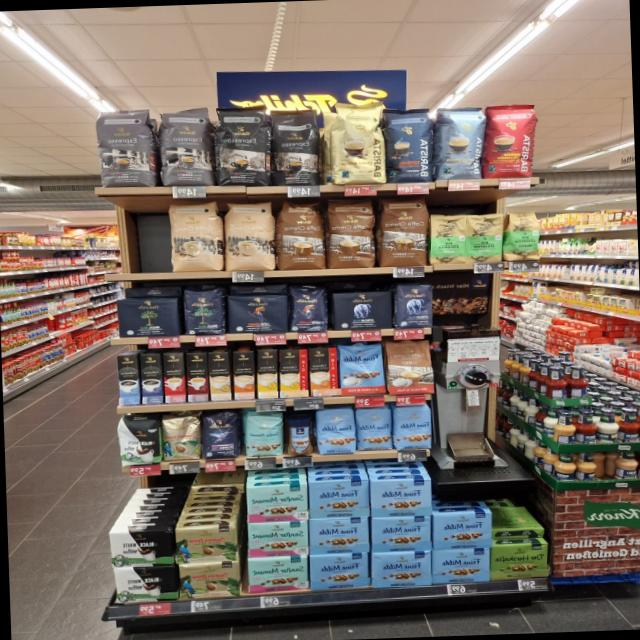AB Bohne: (393, 282, 435, 330)
AB Gemahlen: (330, 290, 392, 330)
Athiopien Bohne: (502, 208, 542, 260)
Athiopien Gemahlen: (428, 212, 468, 264), (464, 212, 504, 262)
BM Bohne: (182, 286, 224, 336)
BM Gemahlen: (116, 296, 180, 338)
BW Bohne: (115, 416, 161, 468)
BW Gemahlen: (107, 526, 175, 568), (112, 564, 179, 603)
Barista CB: (329, 100, 386, 185)
Barista CC: (432, 104, 486, 180)
Barista Espresso: (382, 105, 436, 183)
Barista Kolumbien: (483, 101, 540, 179)
C Fino Bohne: (199, 410, 240, 460)
CC Mild: (222, 199, 277, 273), (168, 200, 222, 272)
CC Vollmundig: (385, 339, 433, 395)
CC Vollmundig 36 Pads: (274, 194, 326, 270), (376, 196, 429, 268), (326, 196, 378, 268)
Colombia BB Bohne: (160, 414, 201, 462)
Colombia BB Gemahlen: (173, 523, 238, 564), (176, 560, 242, 600)
Empty Shelf: (100, 202, 168, 273)
Espresso Aromatisch: (94, 105, 154, 187), (156, 103, 212, 187)
Espresso Kraftig: (212, 103, 271, 186), (269, 106, 321, 186)
FM 36 Pads: (338, 342, 384, 396)
FM Bohne: (392, 404, 434, 452), (316, 406, 357, 454), (356, 405, 392, 452)
FM Gemahlen: (368, 478, 433, 518), (307, 477, 370, 518), (431, 510, 493, 550), (308, 515, 370, 555), (370, 551, 433, 588), (370, 515, 431, 553), (308, 552, 368, 590), (430, 547, 490, 584)
FM Instant: (285, 415, 314, 457)
Herzhatfe Mundig: (490, 540, 550, 580)
LG Bohne: (288, 284, 328, 332)
LG Gemahlen: (226, 294, 290, 335)
SM Bohne: (242, 412, 286, 458)
SM Gemahlen: (244, 482, 310, 522), (246, 555, 309, 593), (246, 520, 308, 557)
Simo CCMild: (278, 349, 308, 397)
Simo CCMild bigpack: (256, 349, 278, 398)
Simo CCVollmundig: (309, 346, 338, 396)
Simo CCVollmundig bigpack: (232, 351, 255, 400)
Simo Decaff: (208, 352, 230, 401)
Simo Es Brazil: (163, 352, 186, 402)
Simo Es Caramel: (185, 352, 208, 402)
Simo Es Kraft: (140, 352, 162, 403)
Simo Es Vanilla: (117, 353, 139, 404)
